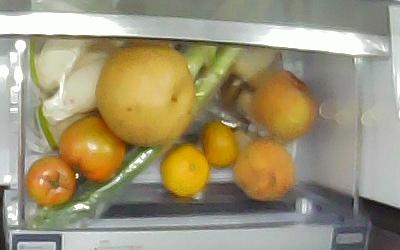peach: (251, 72, 316, 142), (231, 140, 293, 200)
pear: (97, 42, 194, 145)
tangerine: (160, 145, 209, 197), (203, 123, 239, 167)
tomato: (59, 116, 124, 183), (27, 157, 74, 205)
